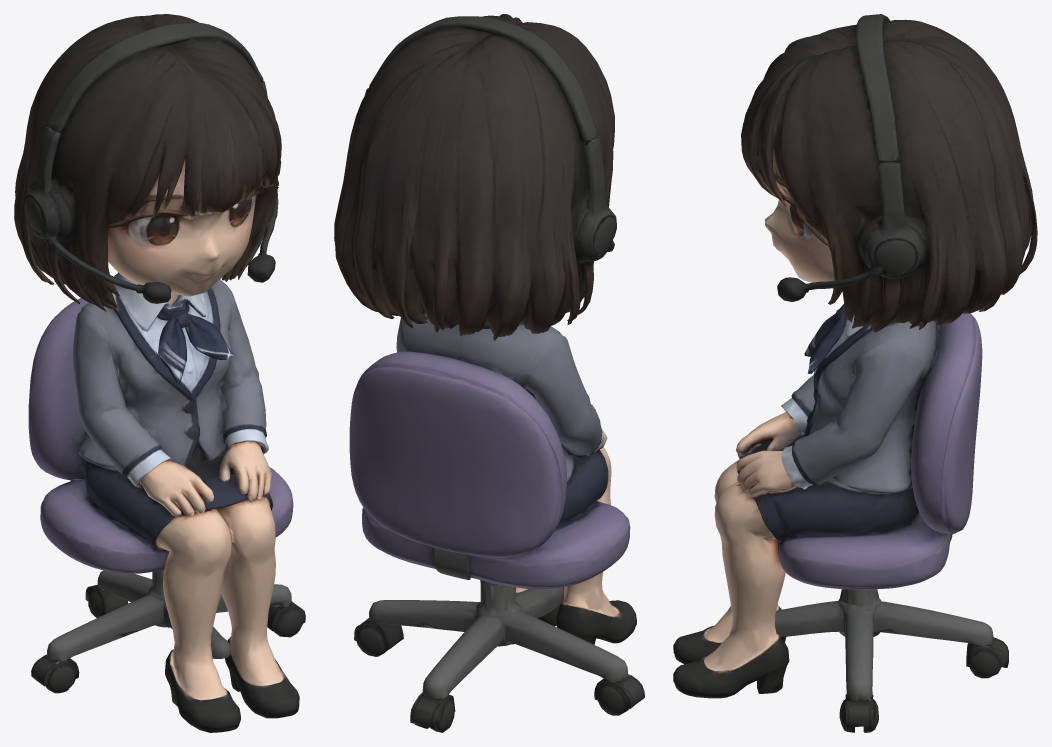
The model's file is mi_chair.glb.
3 views of the same model, side by side, from view 1: azimuth 30°, elevation 25°; view 2: azimuth 150°, elevation 25°; view 3: azimuth 270°, elevation 25° (orthographic). The views are drawn at different scales.
Parts seen in each view (by area): view 1: tripo_node_a314ca3a-43c9-4079-83a8-e7febbc88e62; view 2: tripo_node_a314ca3a-43c9-4079-83a8-e7febbc88e62; view 3: tripo_node_a314ca3a-43c9-4079-83a8-e7febbc88e62.
Boxes of the visible parts, box(x1,y1,x2,y2) form: tripo_node_a314ca3a-43c9-4079-83a8-e7febbc88e62: box(14, 14, 305, 732); tripo_node_a314ca3a-43c9-4079-83a8-e7febbc88e62: box(334, 14, 644, 732); tripo_node_a314ca3a-43c9-4079-83a8-e7febbc88e62: box(673, 14, 1037, 732).
Bounding box in the file's own units: 0.4368 × 1 × 0.5112.
Materials: 1 (1 with a texture image).
